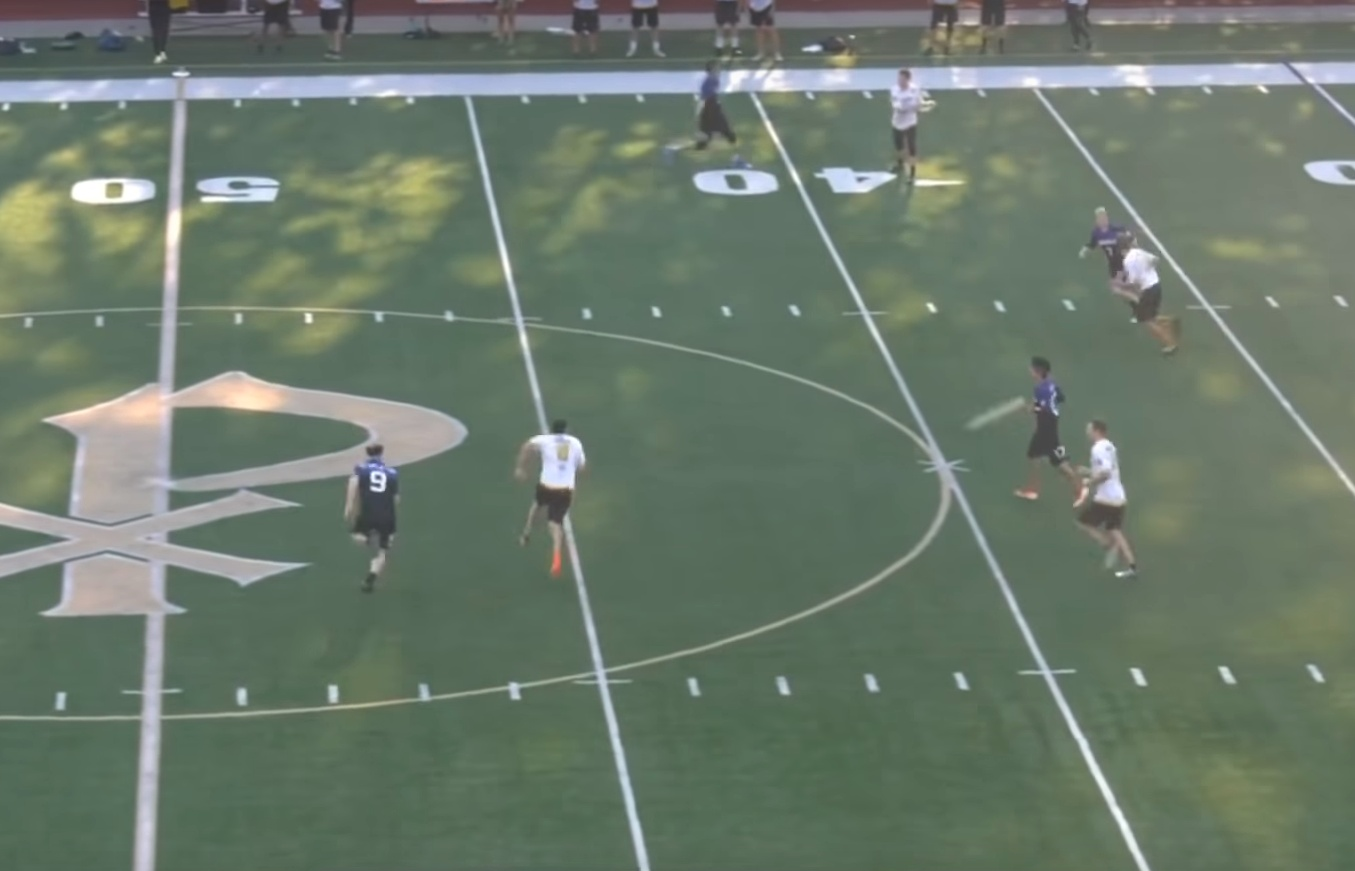frisbee: (918, 99, 936, 113)
